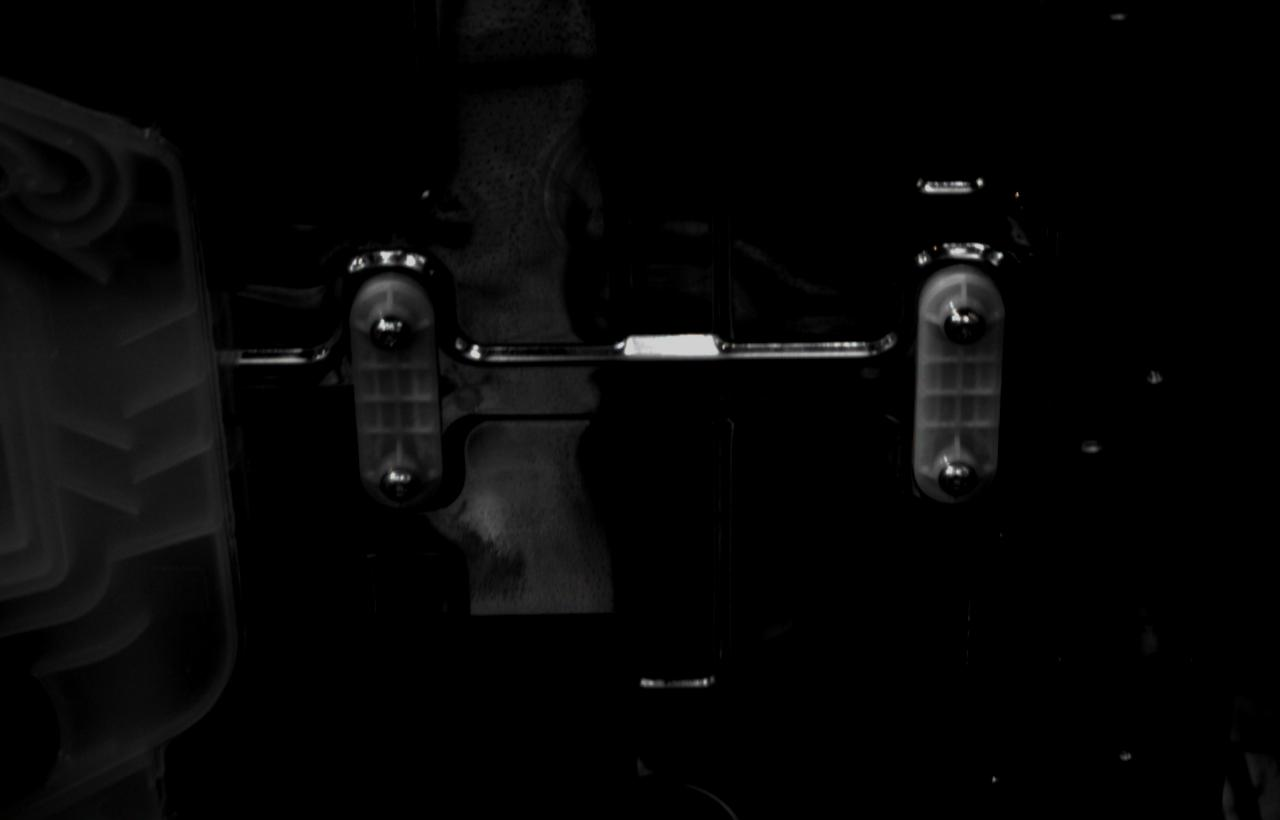vida-ok: (938, 460, 978, 498), (944, 308, 984, 345), (379, 466, 418, 503), (369, 315, 408, 350)
